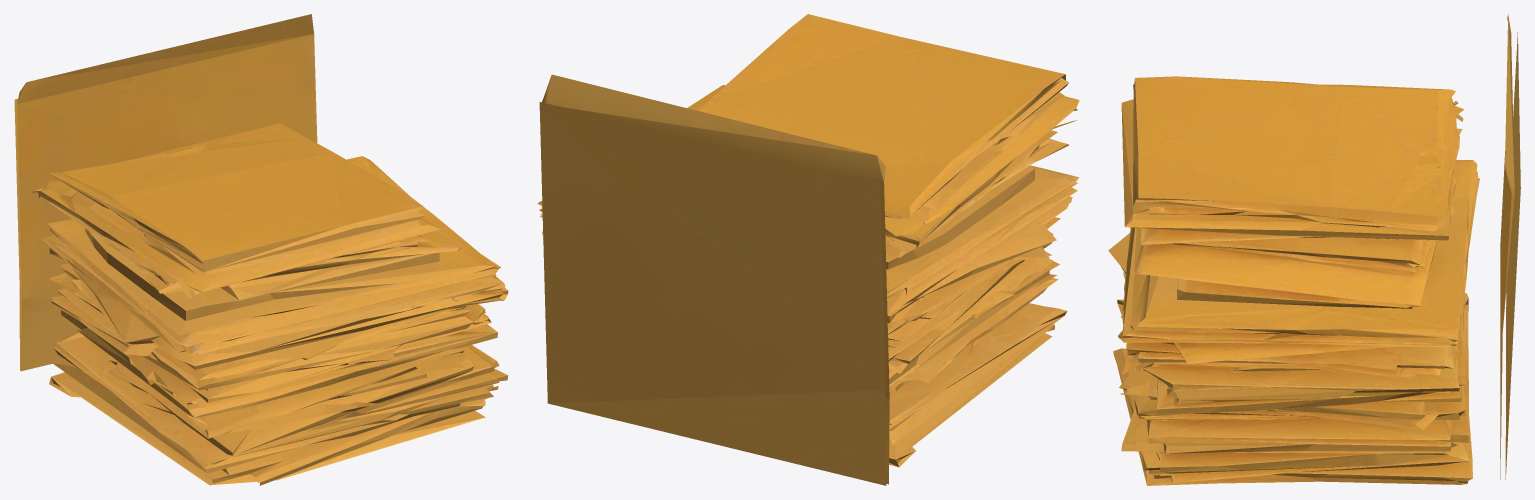
Rendered from fogli_N.glb.
3 renders of one model, left to right at view 1: azimuth 30°, elevation 25°; view 2: azimuth 150°, elevation 25°; view 3: azimuth 270°, elevation 25°, orthographic. The views are drawn at different scales.
Visible parts, largest first — view 1: Mesh_0; view 2: Mesh_0; view 3: Mesh_0.
Part boxes in pixels (x1,y1,x2,y2): Mesh_0: (14,14,508,485); Mesh_0: (537,14,1079,485); Mesh_0: (1108,14,1520,485).
Bounding box in the file's own units: 0.35 × 0.2628 × 0.3125.
1 material, 1 textured.
